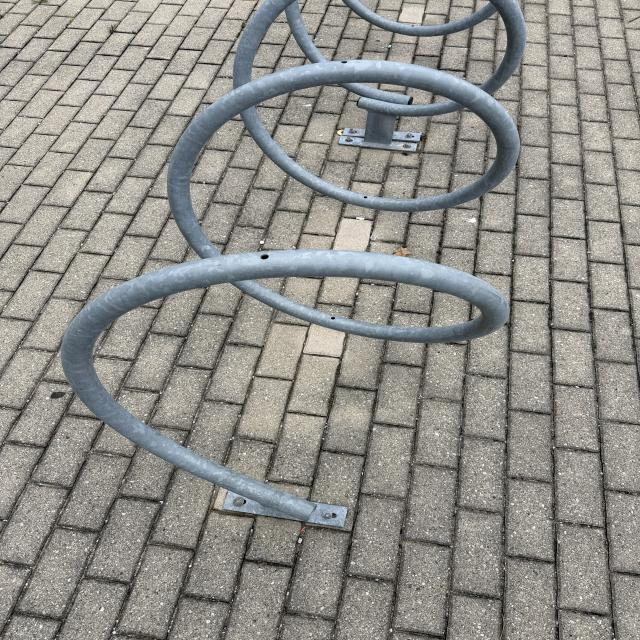Bicycle Rack: (58, 0, 530, 528)
